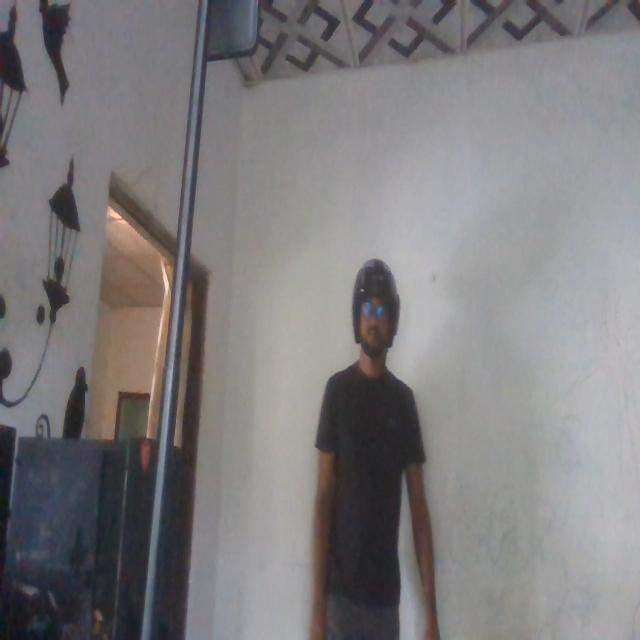Helmet_Wearer: (346, 260, 402, 386)
Person: (309, 246, 442, 640)
